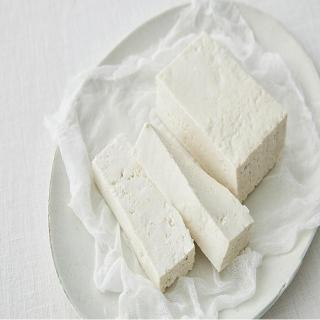Tahu: (85, 34, 293, 287)
